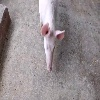heo: (35, 16, 63, 74)
